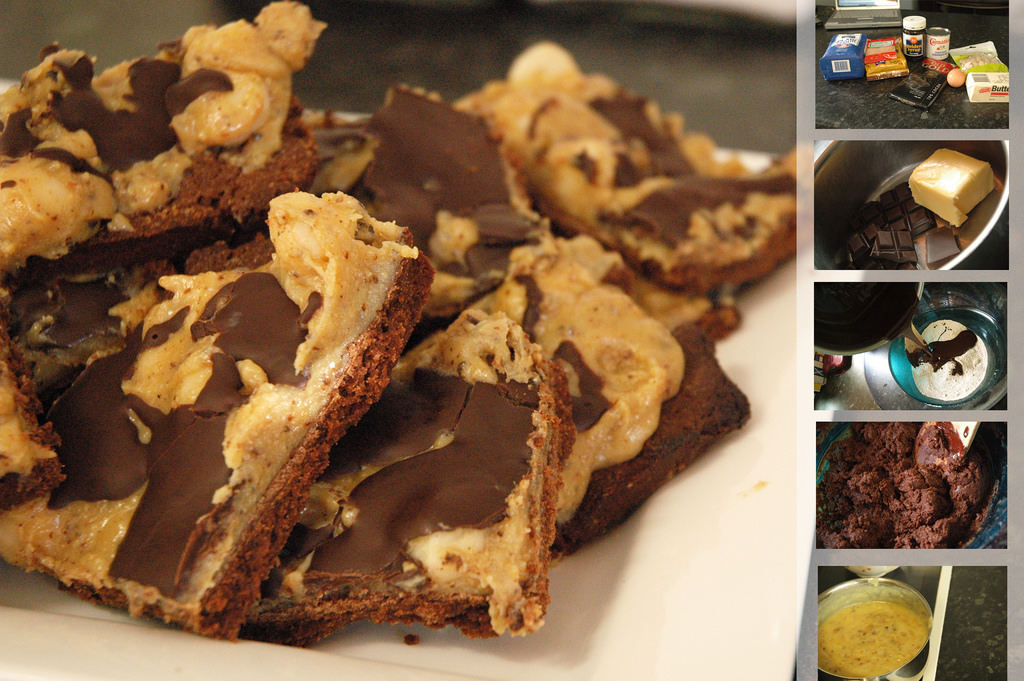slice of bread: (75, 211, 355, 591)
